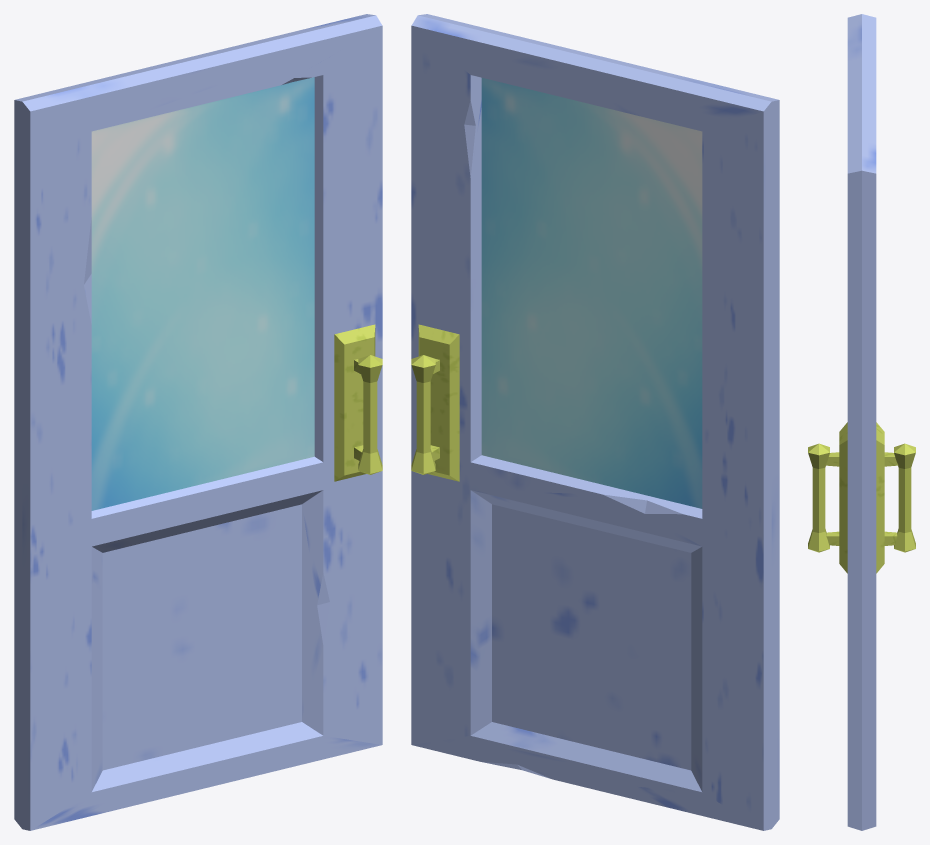
Rendered from Door_01.fbx.
3 renders of one model, left to right at view 1: azimuth 30°, elevation 25°; view 2: azimuth 150°, elevation 25°; view 3: azimuth 270°, elevation 25°, orthographic. The views are drawn at different scales.
Parts seen in each view (by area): view 1: SM_Bld_Door_Folding_01_Glass_01; view 2: SM_Bld_Door_Folding_01_Glass_01; view 3: SM_Bld_Door_Folding_01_Glass_01.
Boxes of the visible parts, x1=… form: SM_Bld_Door_Folding_01_Glass_01: x1=14, y1=14, x2=382, y2=830; SM_Bld_Door_Folding_01_Glass_01: x1=411, y1=14, x2=779, y2=830; SM_Bld_Door_Folding_01_Glass_01: x1=808, y1=14, x2=915, y2=830.
Bounding box in the file's own units: 100 × 197 × 29.15.
